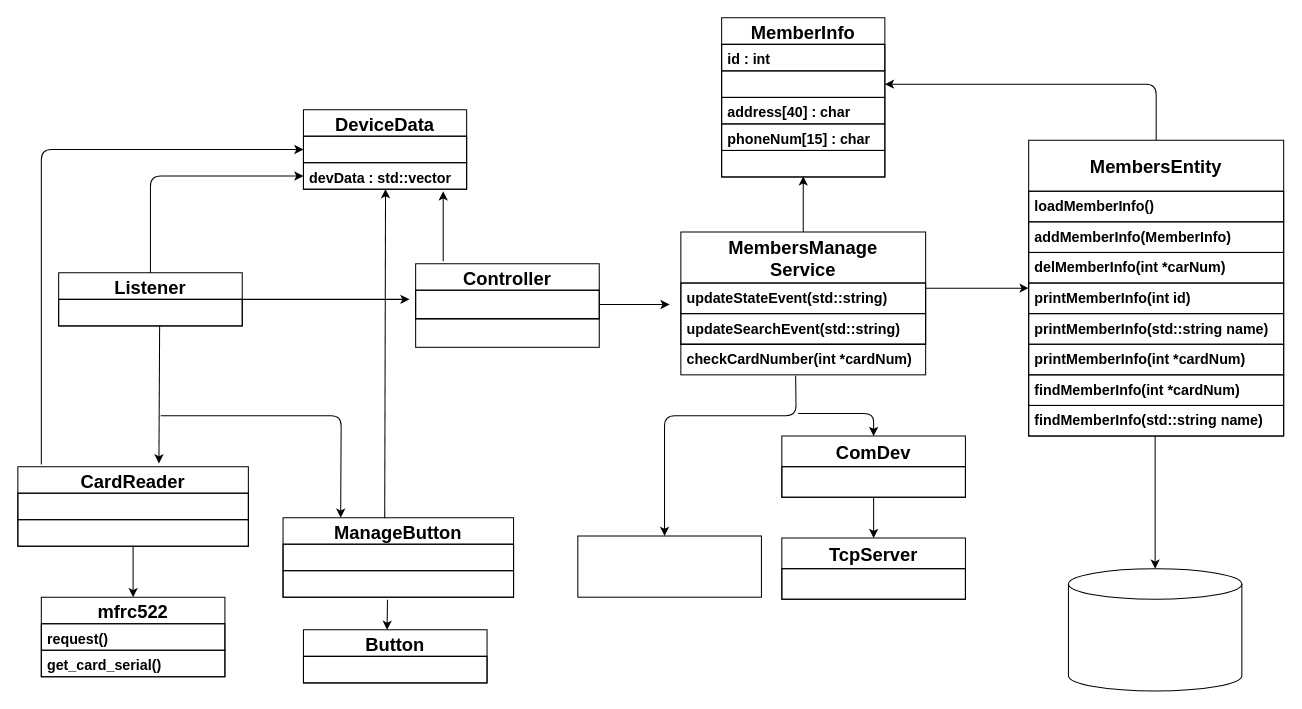
Some shapes in this 1302 by 709 pixel diagram are drawn without their labels. The centre of each missing label's shape, as x and y in pixels:
"cardNum[5] : int" belongs at pixel 803 163.
"checkbutton() : bool" belongs at pixel 398 557.
"checkEvent()" belongs at pixel 150 312.
"DataBase memberList.bin" belongs at pixel 1154 629.
"devName : std::string" belongs at pixel 384 149.
"getButtonData() : DeviceData" belongs at pixel 398 583.
"getCardNumber() : DeviceData" belongs at pixel 132 532.
"getState()" belongs at pixel 394 669.
"isCard()" belongs at pixel 132 506.
"LCD" belongs at pixel 669 566.
"name[10] : char" belongs at pixel 803 83.
"sendData()" belongs at pixel 873 583.
"sendData(int *cardNum)" belongs at pixel 873 481.
"updateEvent()" belongs at pixel 507 304.
"updateSearchEvent()" belongs at pixel 507 332.
